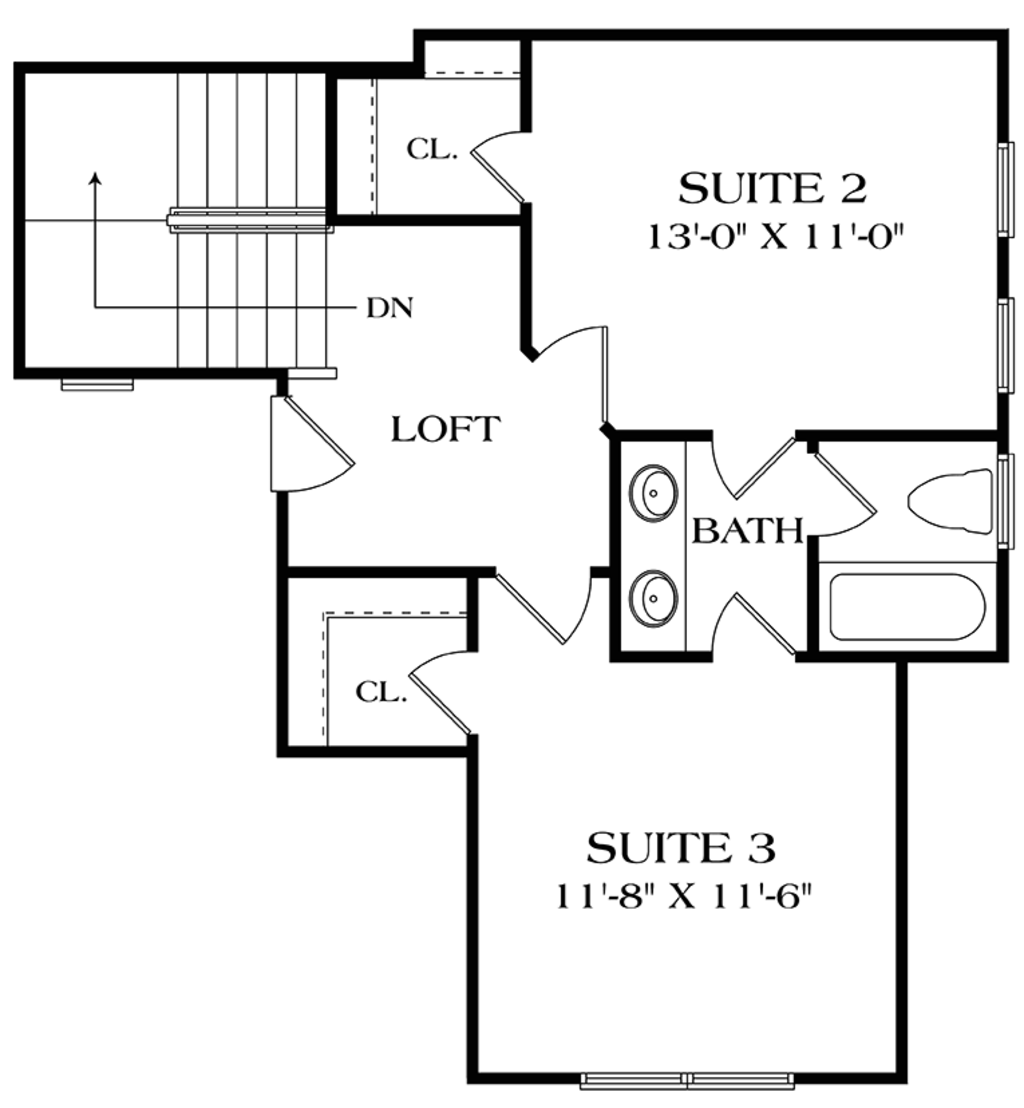door: (251, 390, 355, 499), (527, 319, 627, 424), (395, 638, 492, 736), (499, 560, 595, 651), (707, 421, 795, 512), (700, 585, 792, 670), (468, 126, 544, 221), (805, 448, 880, 541)
large_sink: (902, 450, 989, 539)
small_sink: (607, 438, 695, 653)
stairs: (17, 75, 348, 370)
tub: (826, 558, 1005, 650)
window: (582, 1070, 807, 1089), (992, 295, 1019, 400), (994, 445, 1016, 550), (56, 373, 139, 399), (999, 138, 1017, 239)
